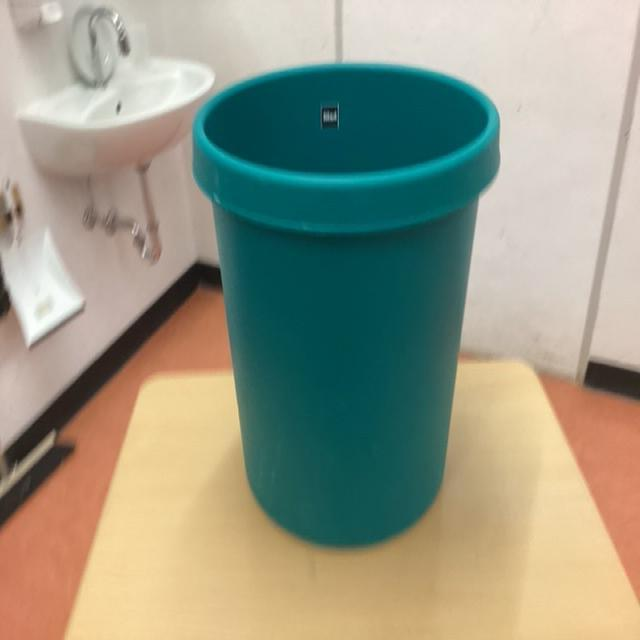garbage container: (184, 30, 514, 572)
